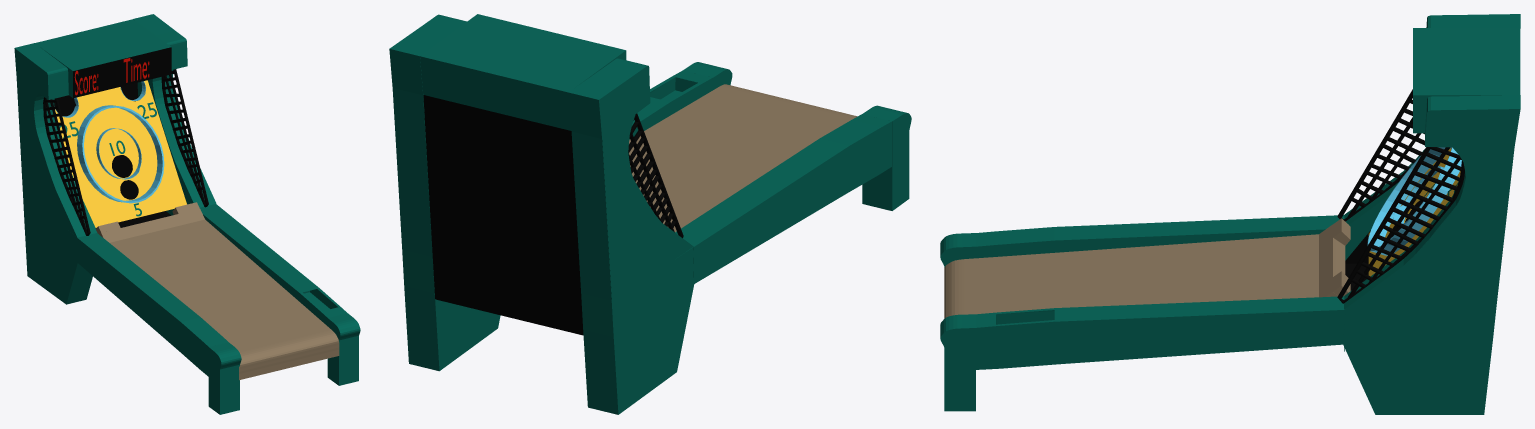
The model's file is Ultimate skii ball.fbx.
3 renders of one model, left to right at view 1: azimuth 30°, elevation 25°; view 2: azimuth 150°, elevation 25°; view 3: azimuth 270°, elevation 25°, orthographic. The views are drawn at different scales.
Parts seen in each view (by area): view 1: Body Center, upperleg + Score Left, Backboard layer 1, Body Left, ScoreBoard, Body Righrt, upperleg + Score, BottomeLeg Left, Net Left, Net, BottomLeg, Score Ring Center (+2 smaller); view 2: BackBoard layer 2, upperleg + Score Left, Body Center, ScoreBoard, upperleg + Score, Body Left, BottomeLeg Left, Body Righrt, Net Left, BottomLeg; view 3: upperleg + Score, Body Center, Body Righrt, Body Left, ScoreBoard, Net, BottomLeg, Net Left, upperleg + Score Left, Score Ring Center, BottomeLeg Left, Backboard layer 1 (+1 smaller).
Boxes of the visible parts, bbox=[...] form: Body Center: bbox=[96, 202, 339, 380]; upperleg + Score Left: bbox=[14, 43, 97, 304]; Backboard layer 1: bbox=[55, 80, 186, 227]; Body Left: bbox=[77, 233, 228, 376]; ScoreBoard: bbox=[35, 19, 171, 98]; Body Righrt: bbox=[199, 204, 347, 325]; upperleg + Score: bbox=[133, 14, 216, 215]; BottomeLeg Left: bbox=[208, 342, 241, 414]; Net Left: bbox=[43, 97, 90, 235]; Net: bbox=[161, 69, 208, 207]; BottomLeg: bbox=[327, 313, 360, 385]; Score Ring Center: bbox=[77, 105, 164, 203]; BackBoard layer 2: bbox=[423, 95, 583, 335]; upperleg + Score Left: bbox=[568, 58, 694, 414]; Body Center: bbox=[629, 84, 857, 232]; ScoreBoard: bbox=[420, 14, 626, 130]; upperleg + Score: bbox=[389, 14, 500, 371]; Body Left: bbox=[675, 114, 891, 283]; BottomeLeg Left: bbox=[862, 105, 911, 210]; Body Righrt: bbox=[629, 70, 712, 139]; Net Left: bbox=[628, 113, 683, 238]; BottomLeg: bbox=[683, 62, 732, 89]; upperleg + Score: bbox=[1343, 95, 1520, 414]; Body Center: bbox=[944, 218, 1350, 318]; Body Righrt: bbox=[976, 296, 1345, 369]; Body Left: bbox=[976, 215, 1344, 258]; ScoreBoard: bbox=[1413, 28, 1520, 133]; Net: bbox=[1337, 147, 1464, 303]; BottomLeg: bbox=[940, 314, 975, 411]; Net Left: bbox=[1337, 89, 1424, 221]; upperleg + Score Left: bbox=[1344, 14, 1520, 260]; Score Ring Center: bbox=[1367, 147, 1461, 255]; BottomeLeg Left: bbox=[940, 233, 975, 267]; Backboard layer 1: bbox=[1368, 148, 1460, 276].
Bounding box in the file's own units: 528 × 791 × 1360.
